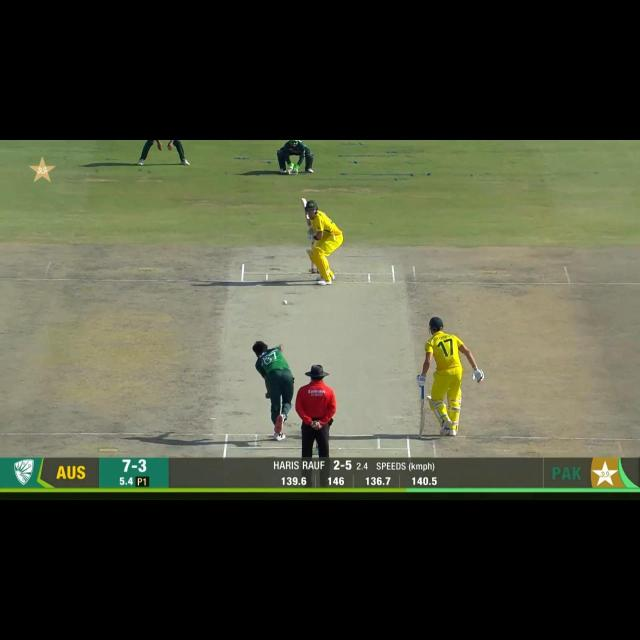bat: (299, 196, 314, 228), (416, 398, 426, 440)
toe: (300, 196, 309, 208), (417, 426, 425, 438)
